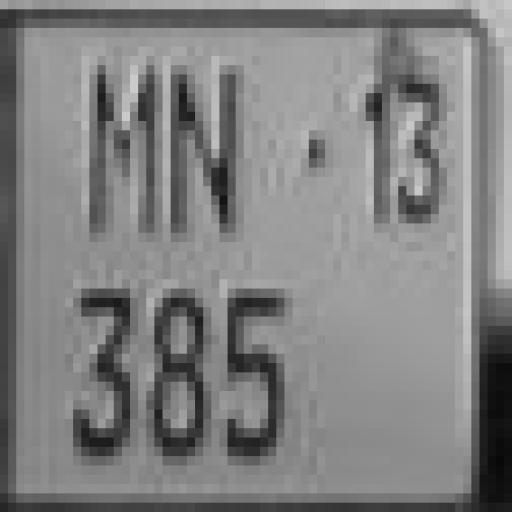3: (72, 292, 136, 458)
5: (221, 292, 297, 457)
8: (151, 282, 208, 465)
M: (93, 59, 156, 234)
N: (166, 59, 253, 239)
